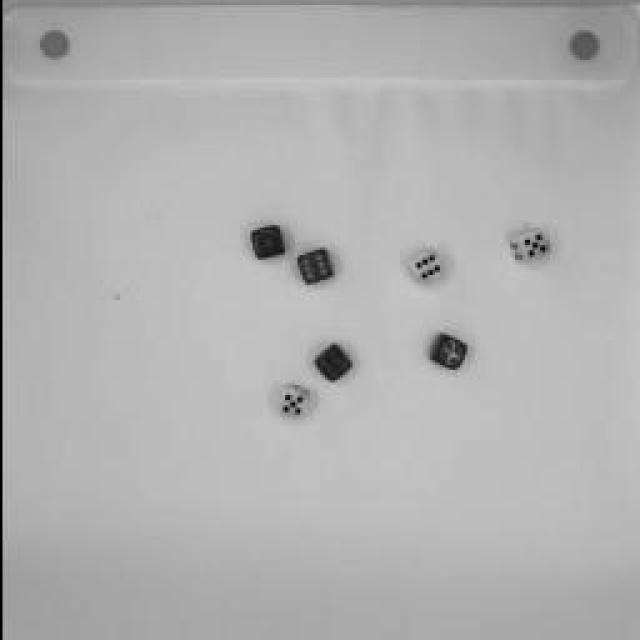dice_1: (246, 220, 289, 265)
dice_4: (422, 334, 472, 374)
dice_5: (506, 224, 554, 271), (272, 380, 310, 420)
dice_6: (401, 246, 449, 292), (308, 343, 352, 385), (294, 245, 334, 290)
